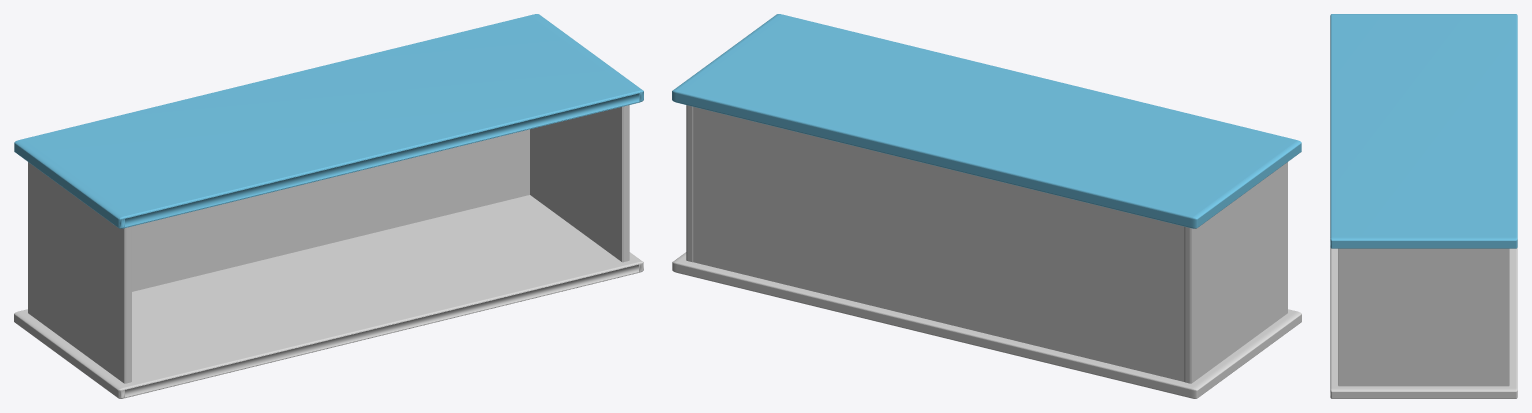
Rendered from longdesk.fbx.
3 views of the same model, side by side, from view 1: azimuth 30°, elevation 25°; view 2: azimuth 150°, elevation 25°; view 3: azimuth 270°, elevation 25° (orthographic). The views are drawn at different scales.
Visible parts, largest first — view 1: longdesk; view 2: longdesk; view 3: longdesk.
Boxes of the visible parts, <box> form: longdesk: <box>14,14,643,398</box>; longdesk: <box>672,14,1301,398</box>; longdesk: <box>1330,14,1517,398</box>.
Bounding box in the file's own units: 3997 × 1323 × 1398.
